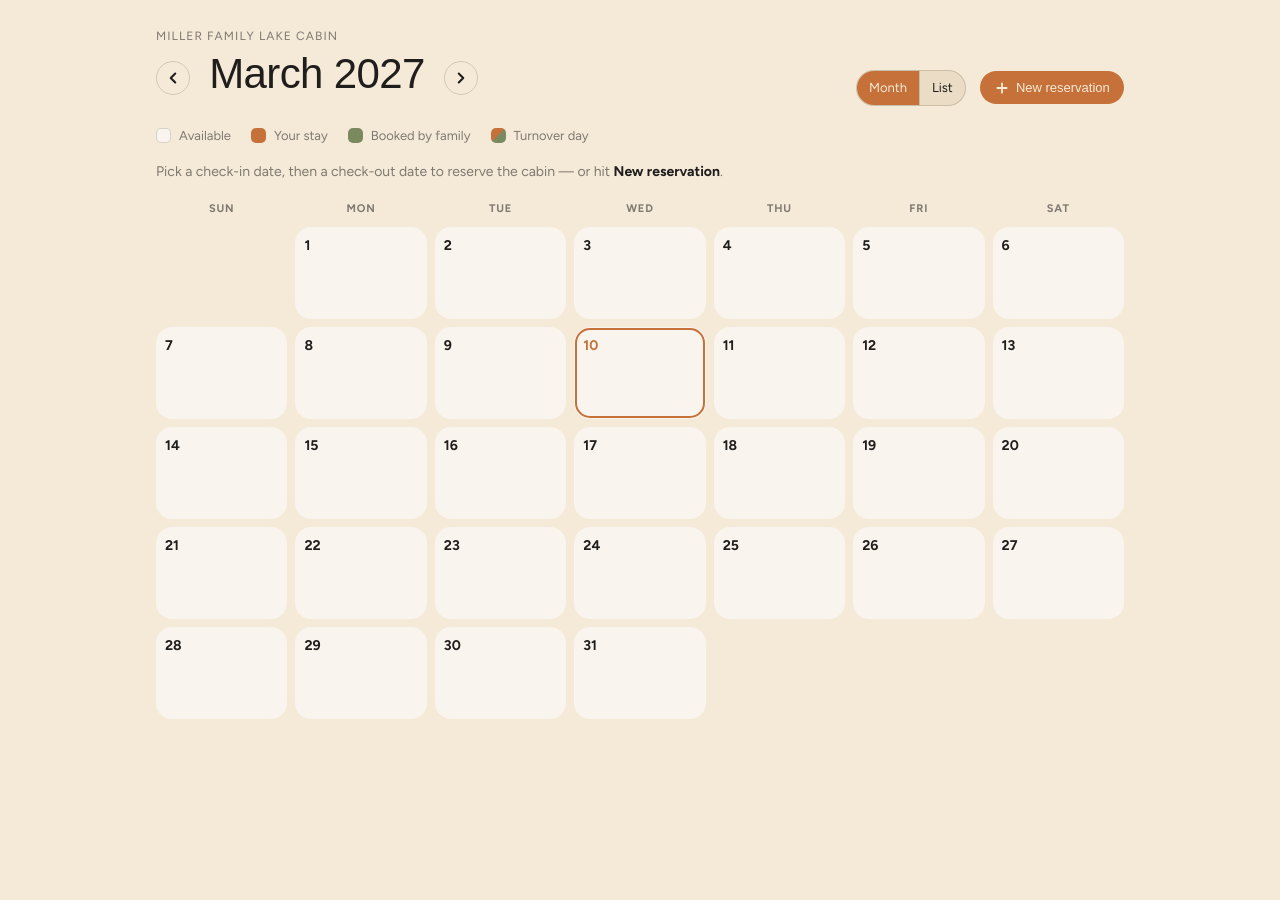
Test: CAP-020 Book a stay › CAP-020 · I can clear a half-made selection
Check: the heading "March 2027" is shown, box [202,50,432,97]
Click the button named "Next month": (461, 78) [444,61,478,95]
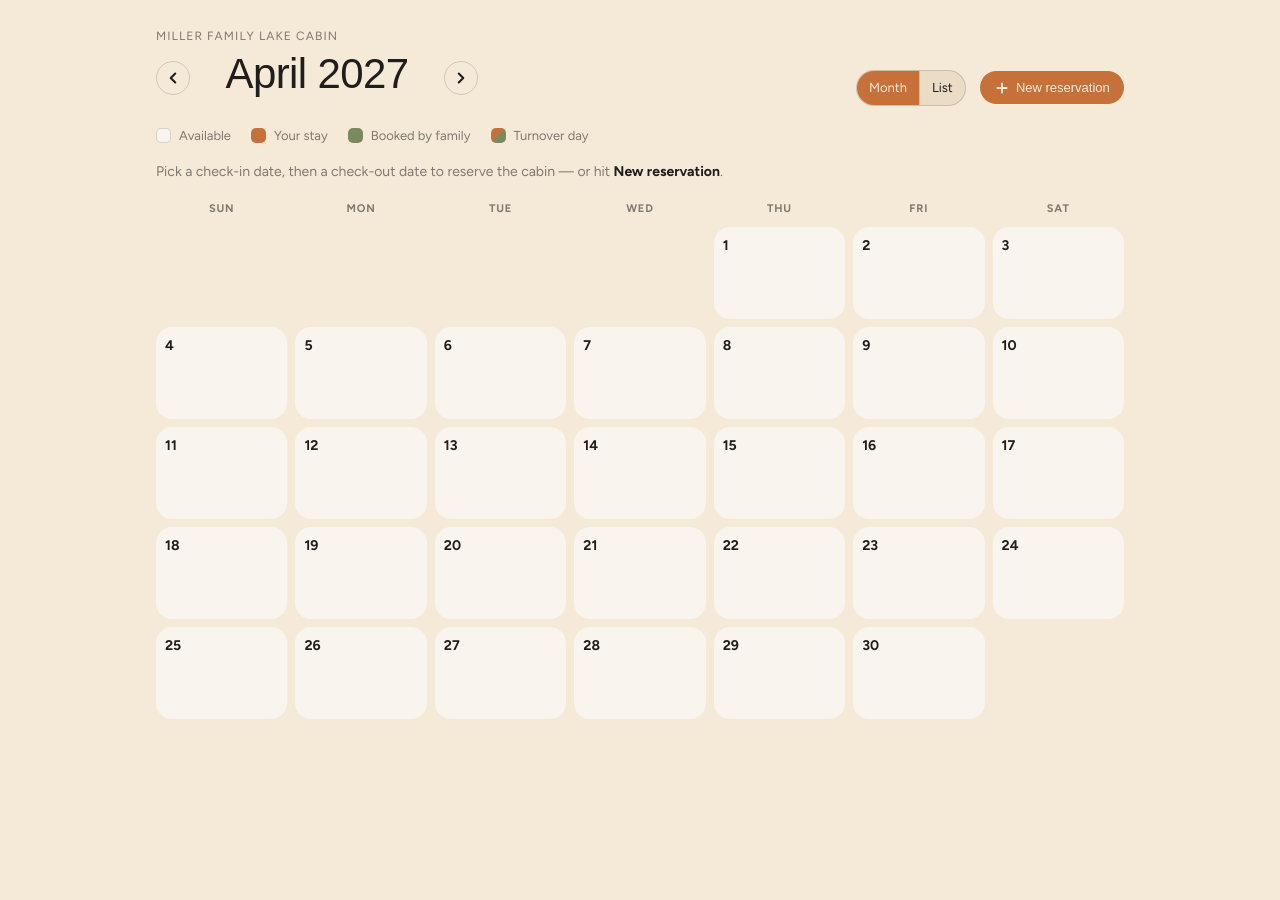
Click the button named "Next month": (461, 78) [444,61,478,95]
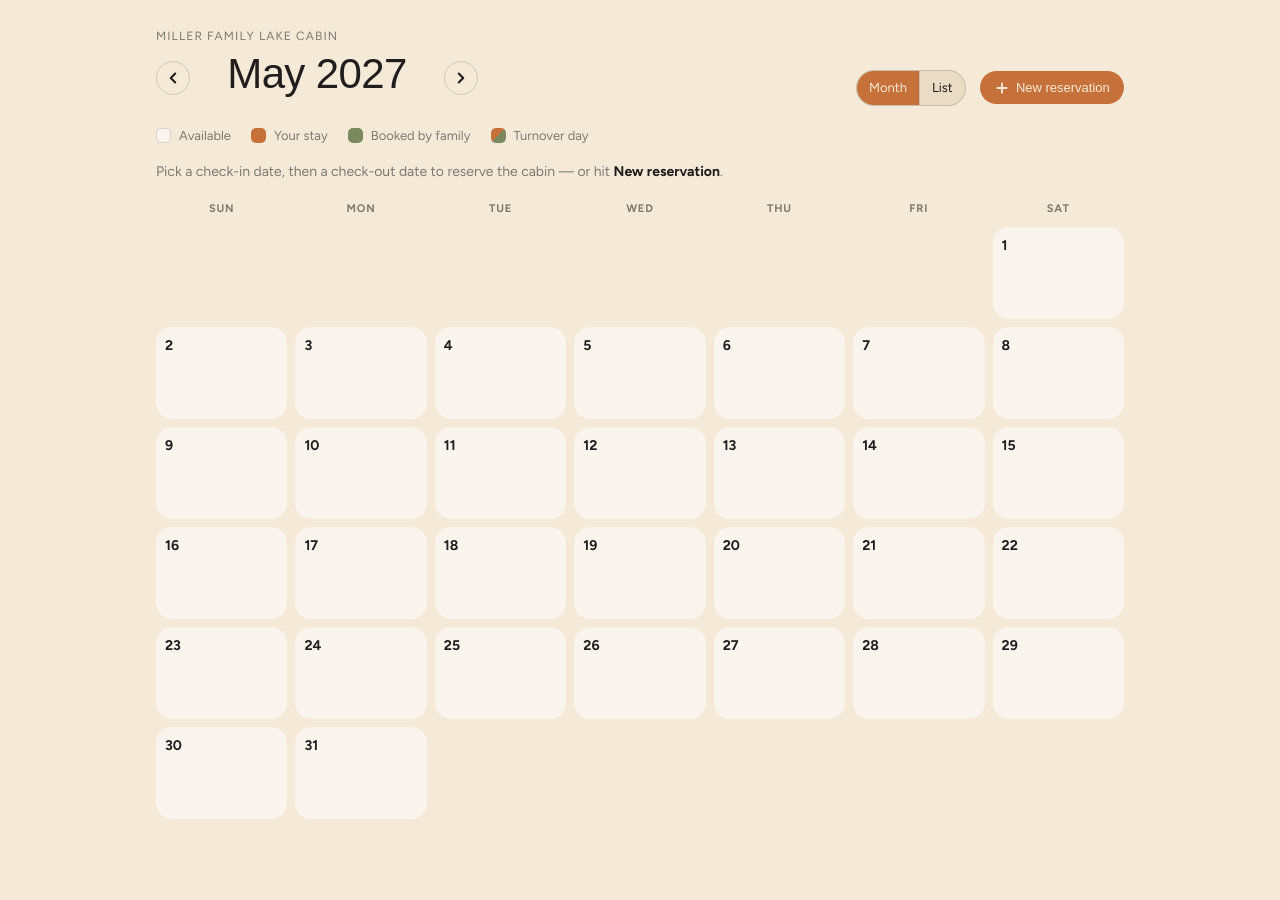
Click the button named "Next month": (461, 78) [444,61,478,95]
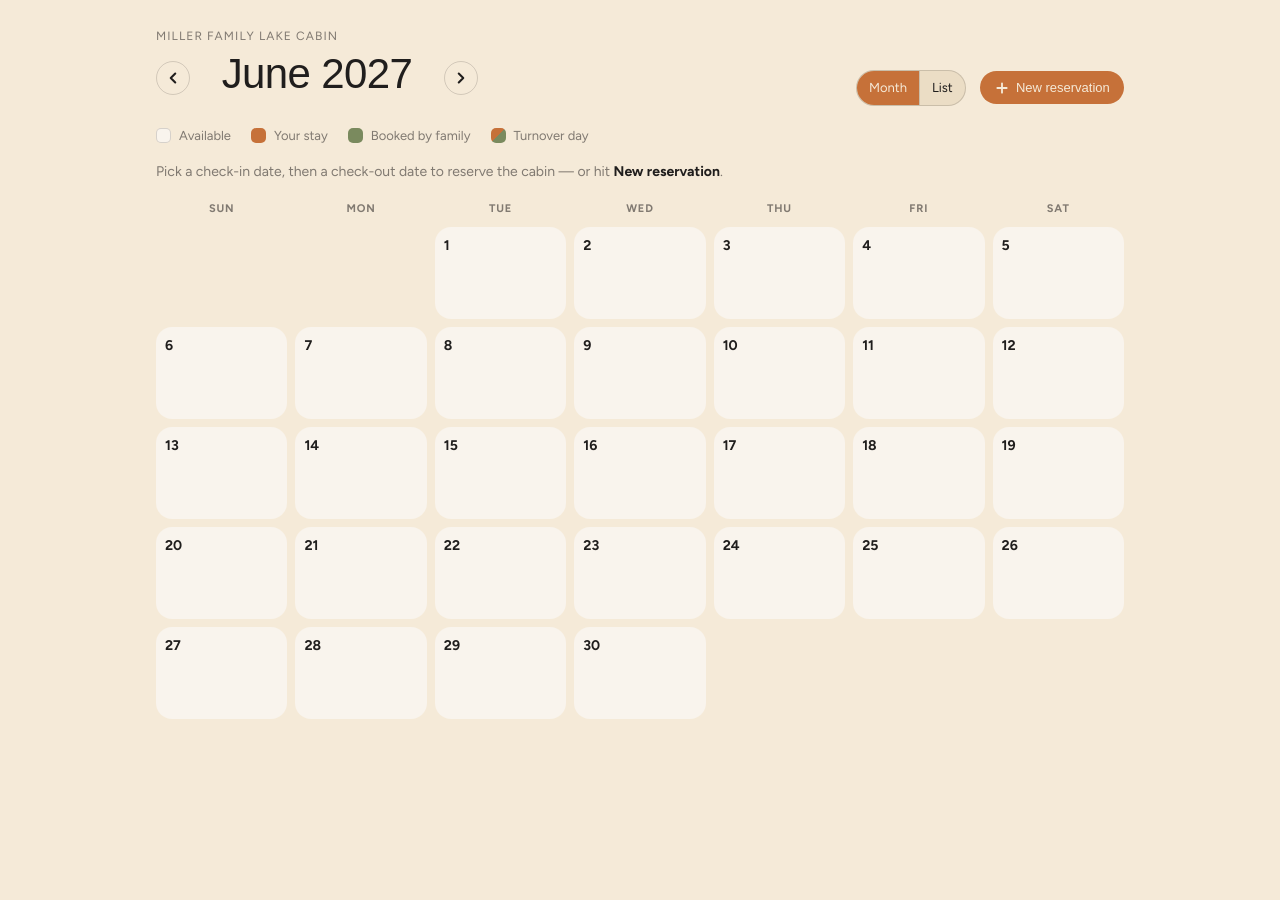
Click the button named "Next month": (461, 78) [444,61,478,95]
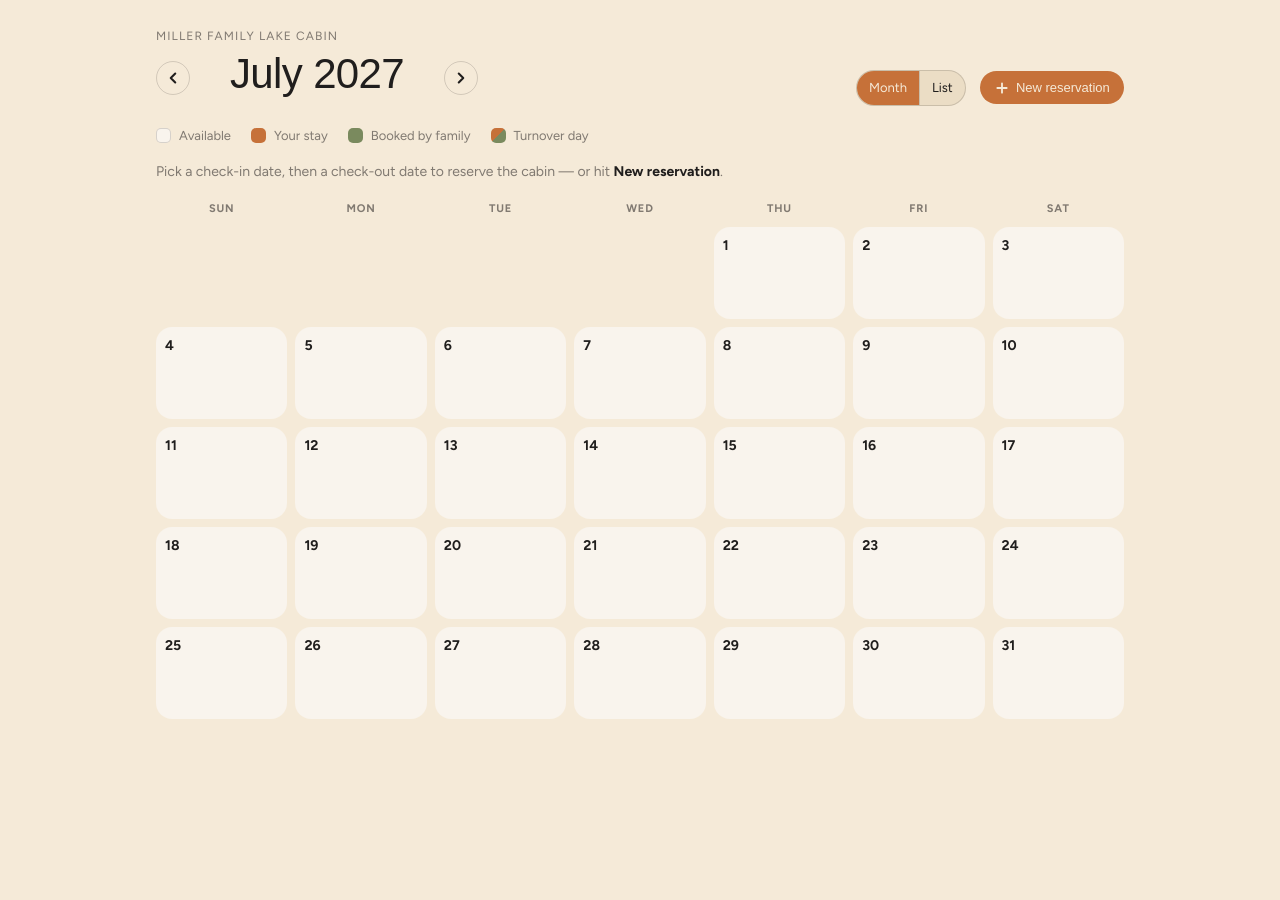
Click the button with class "daycell" showing "10": (1058, 373) [993,327,1124,419]
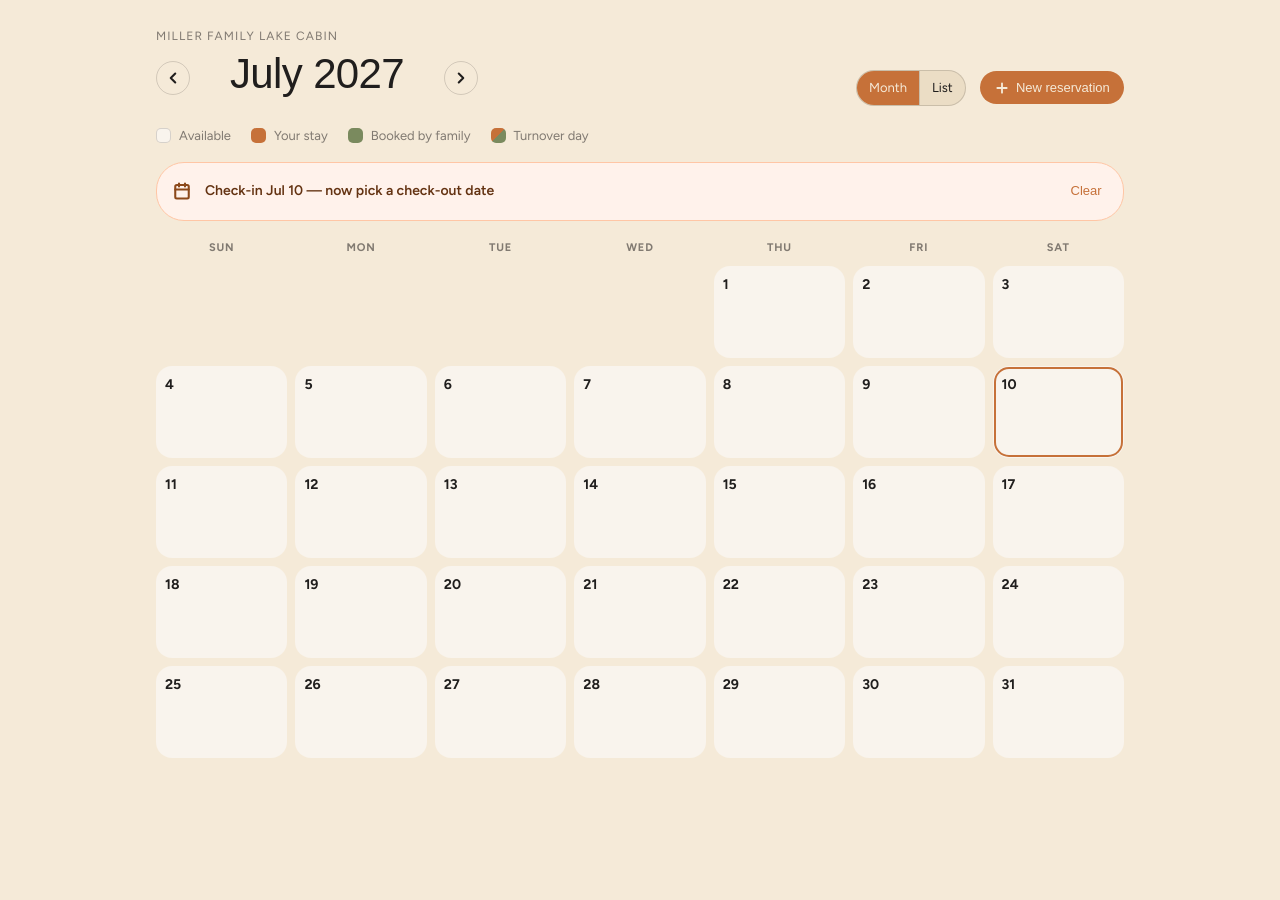
Click the button "Clear": (1086, 191) [1065,175,1107,208]
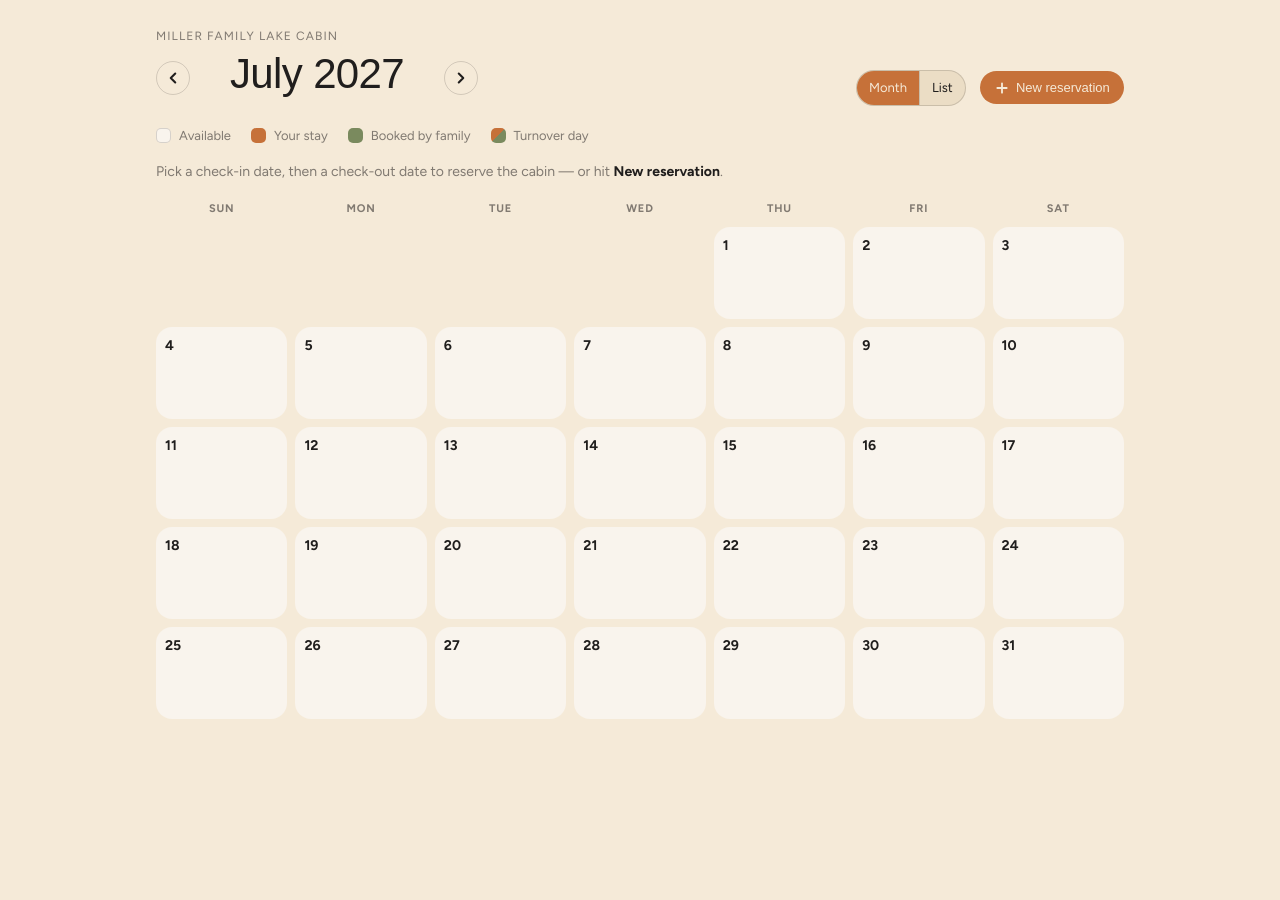
Check: the text "now pick a check-out date" is gone
Check: the button "Clear" is gone
Check: the text "Pick a check-in date, then a check-out date" shows "Pick a check-in date, then a check-out date to reserve the cabin — or hit New reservation.", box [156,163,723,180]
